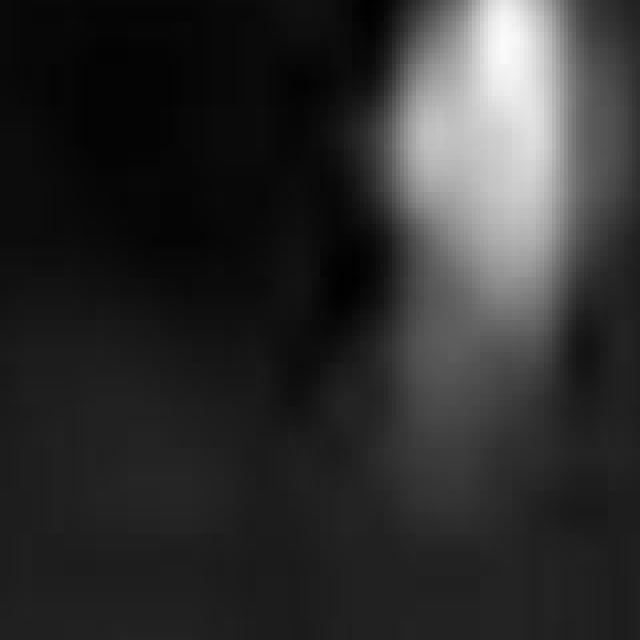person: (389, 1, 629, 481)
